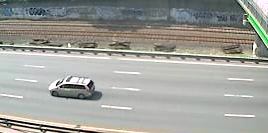car: (47, 73, 99, 102)
